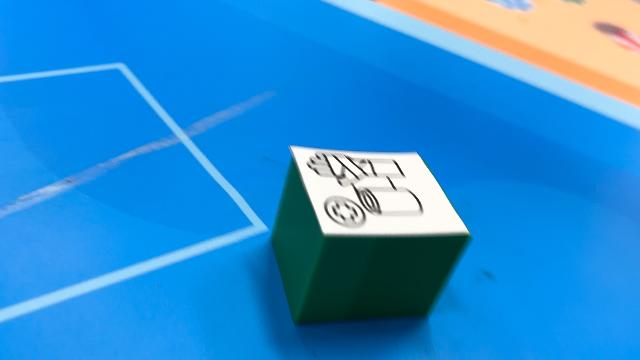bandage: (270, 145, 472, 325)
